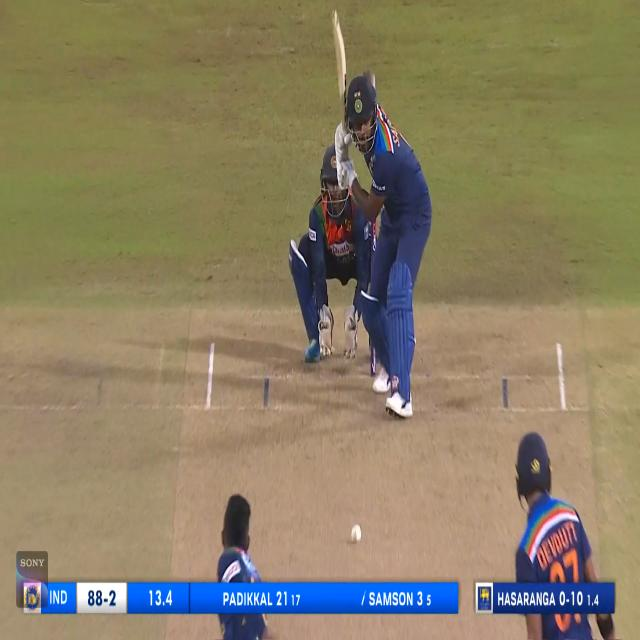ball: (350, 525, 362, 546)
